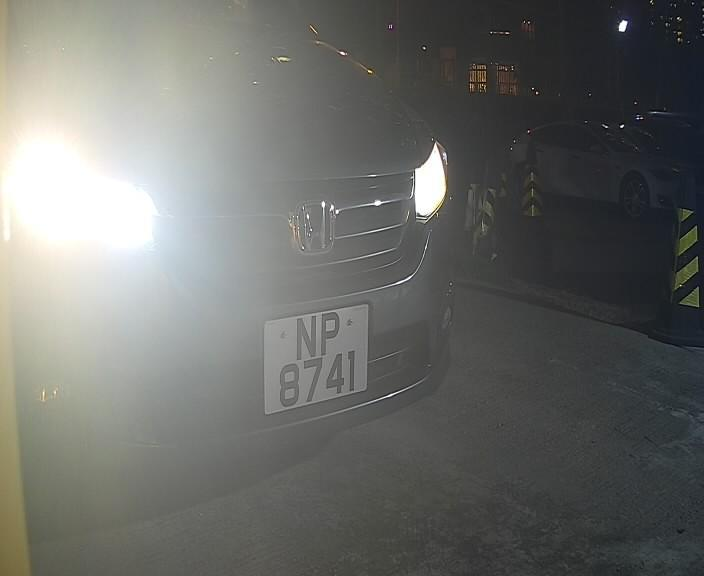License Plate: (258, 291, 371, 425)
